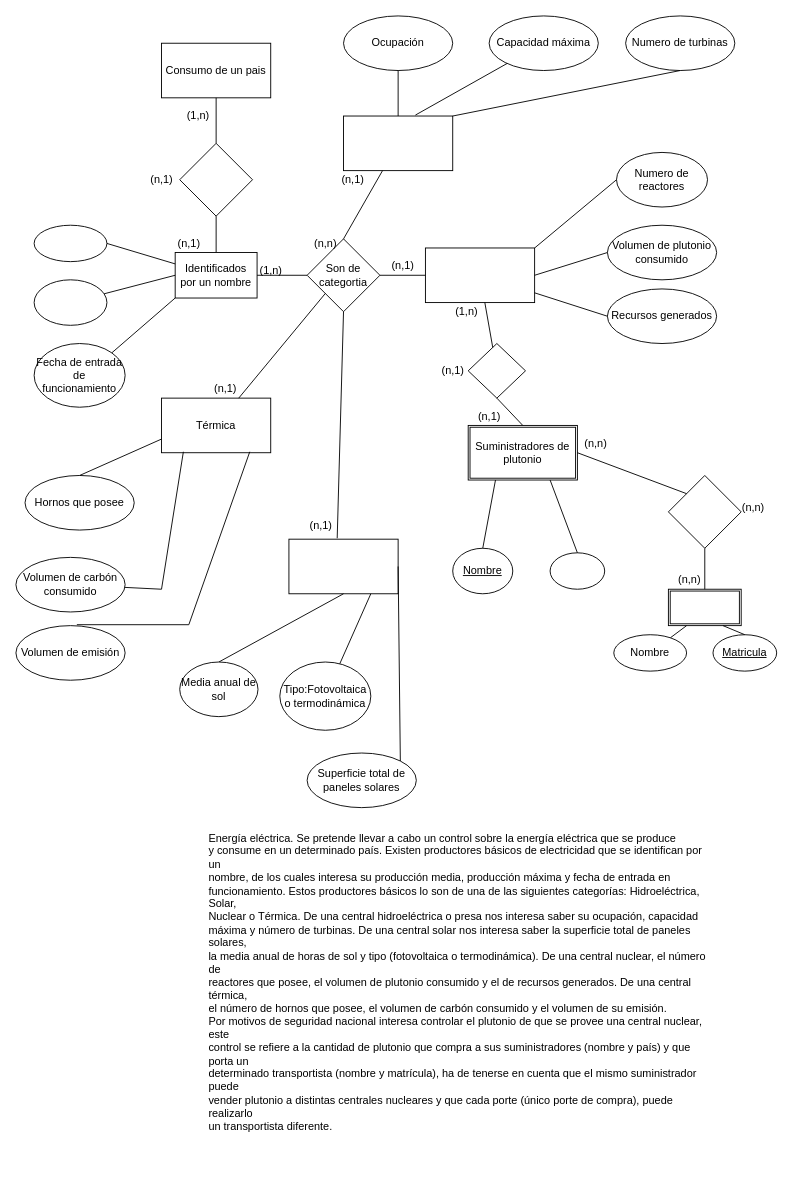
This 793x1178 diagram has some shape labels left out. Here are the shapes that lost their labels. From the top down, the centre of each, then its label:
At [398,143]: "Hidroelectrica".
At [216,179]: "Tiene productos básicos".
At [70,243]: "Producción media".
At [480,275]: "Nuclear".
At [70,302]: "Producción máxima".
At [496,370]: "Suministra plutonio".
At [704,511]: "Lo transporta".
At [343,566]: "Solar".
At [577,570]: "País".
At [704,607]: "Transportista".
